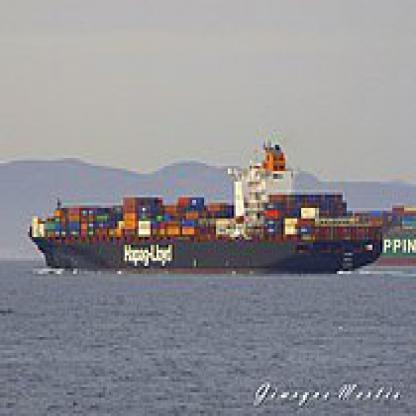Container Ship: (27, 135, 386, 273)
